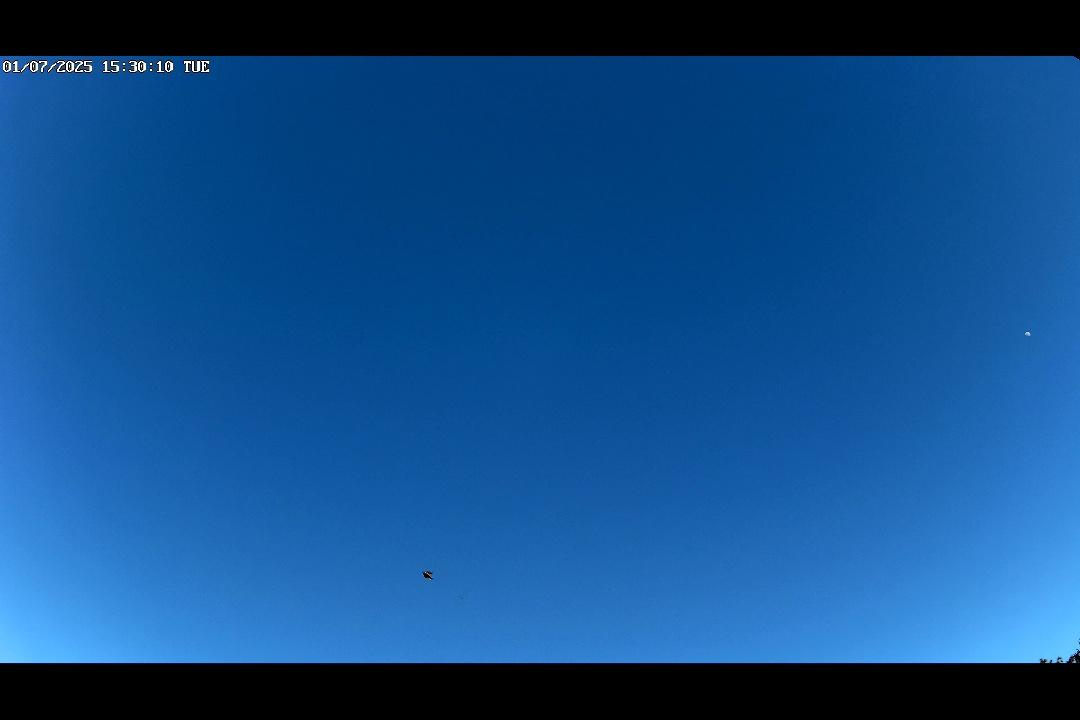WildLife: (415, 565, 443, 584)
